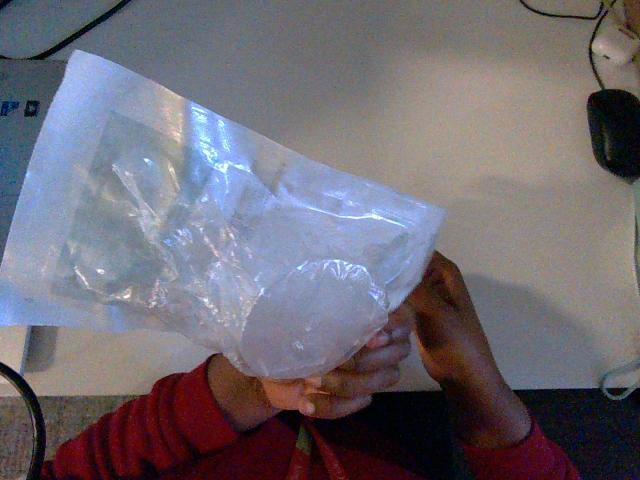gallipot: (0, 52, 443, 377)
